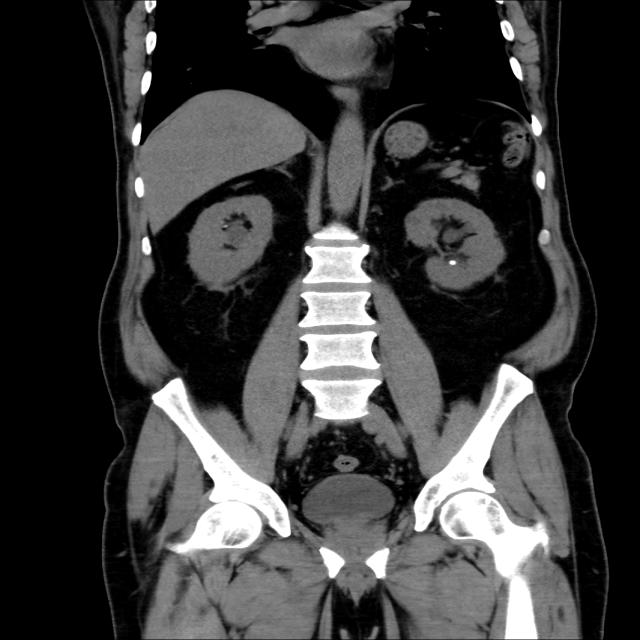kidneystone: (449, 260, 456, 265)
